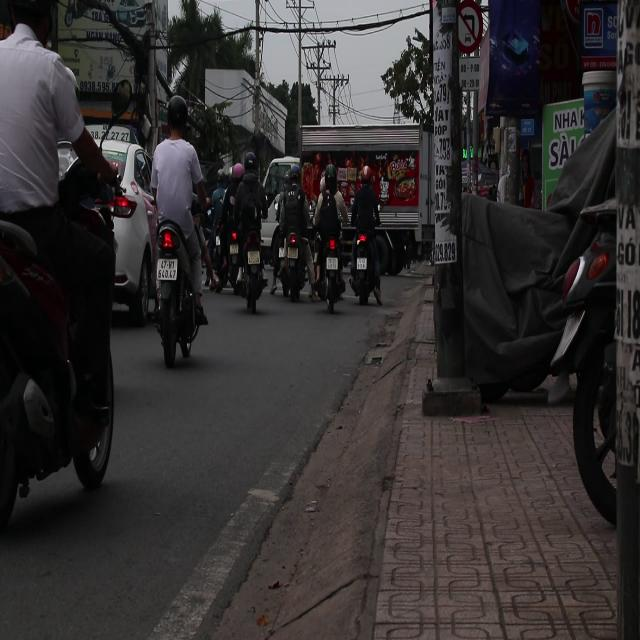car: (105, 140, 158, 338)
motorbike: (0, 179, 112, 566), (150, 210, 207, 367), (347, 192, 385, 306), (283, 220, 311, 313), (242, 232, 270, 316), (326, 237, 344, 314)
